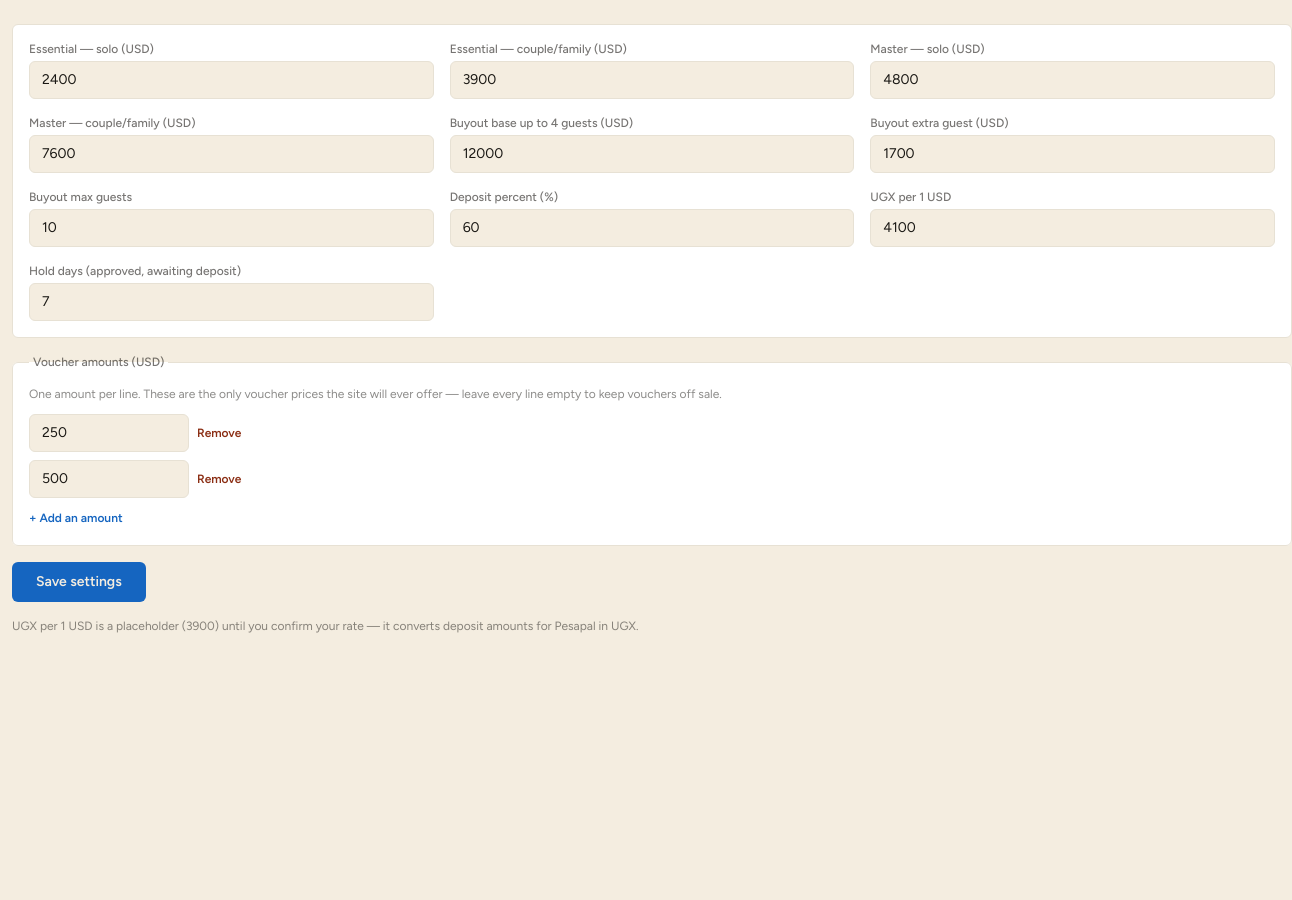
Scenario: SettingsForm partial save › rejects a blanked-out value even though the browser allows the submit
This screenshot has width=1292, height=900.
Clear the number field labelled "Deposit percent (%)" at (652, 228), box [450,209,854,247]
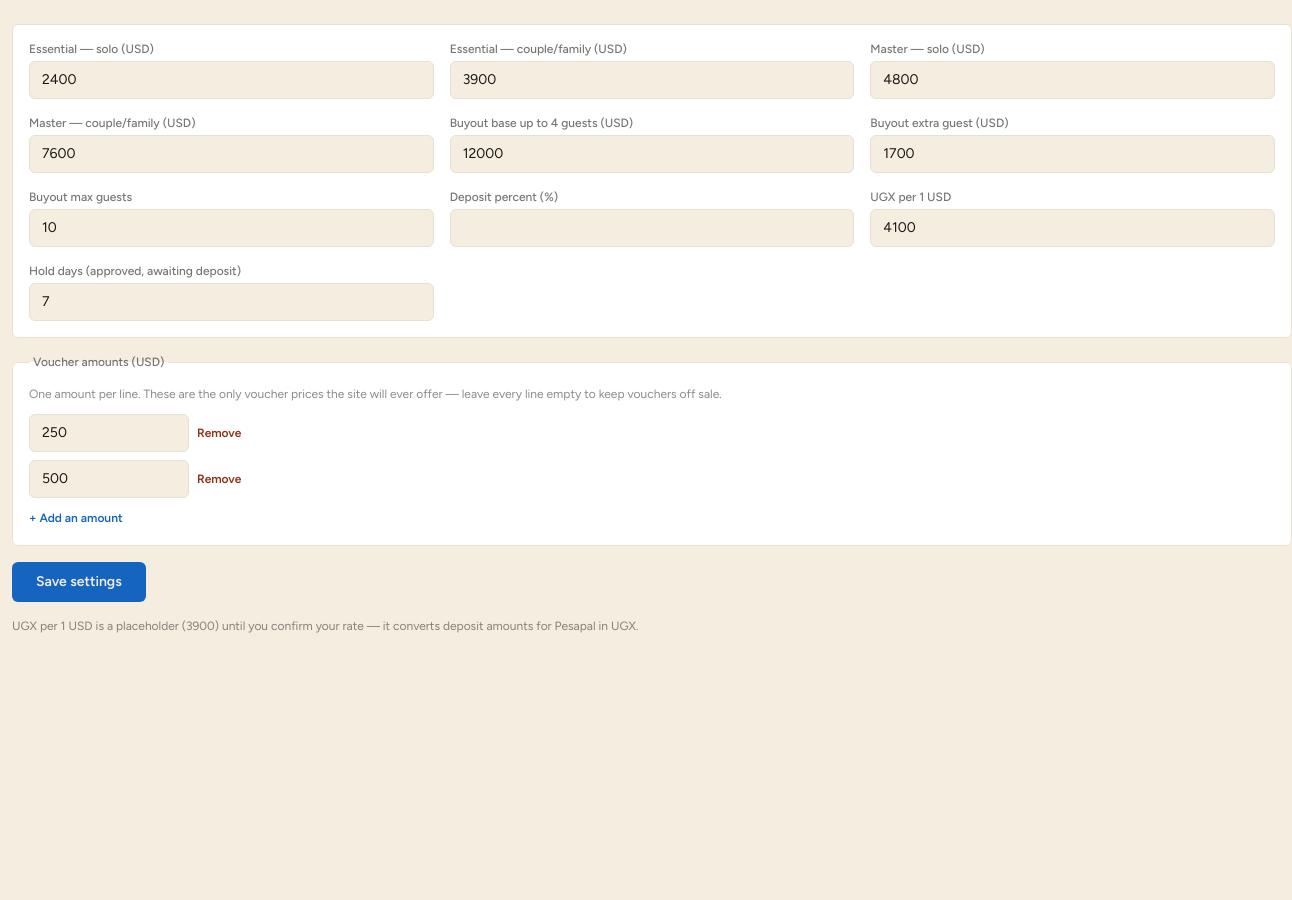
Click the button "Save settings".
click(79, 582)  # box [12,562,146,602]
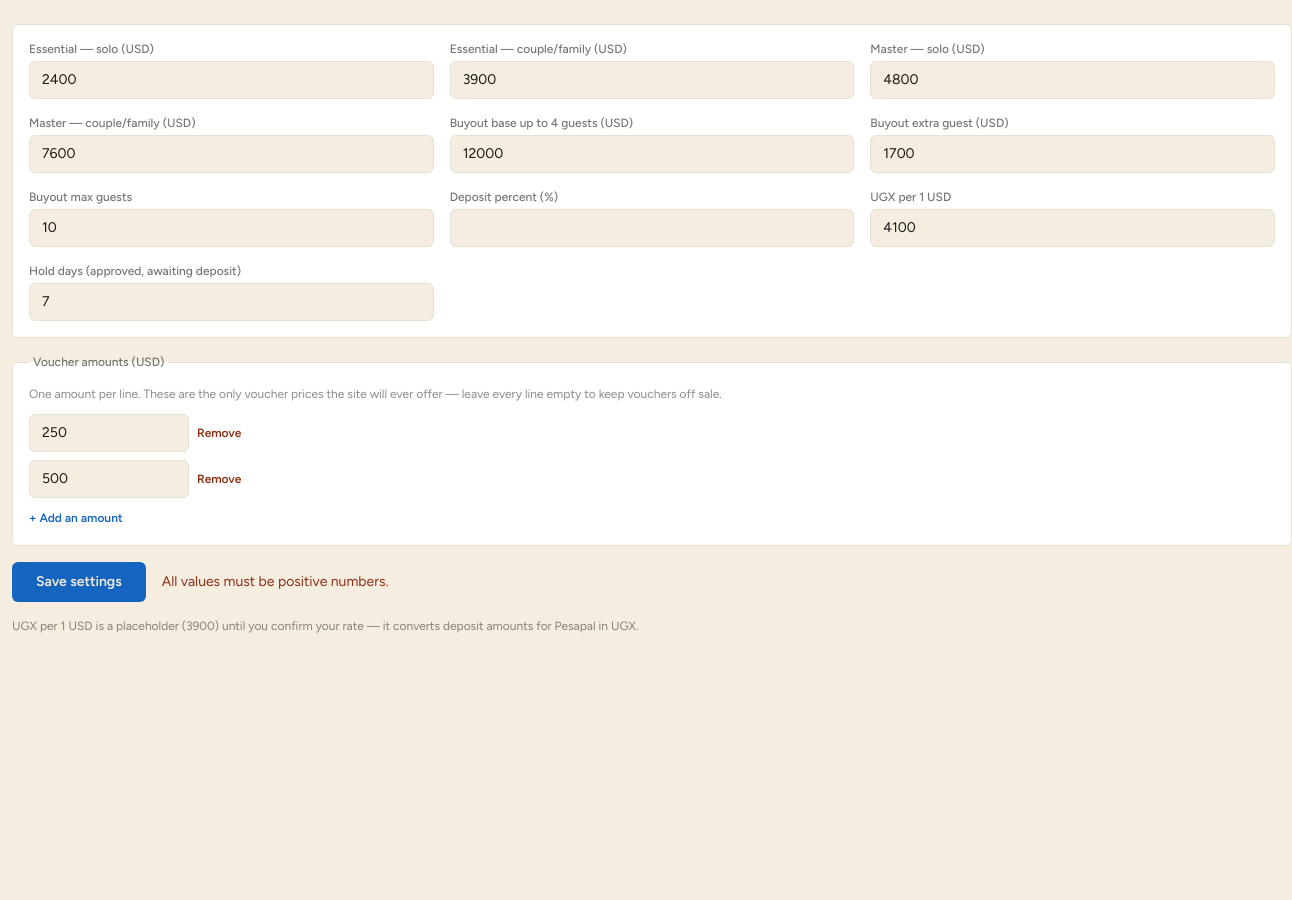
Result: the message shows "positive numbers" at [162,573,388,590]
